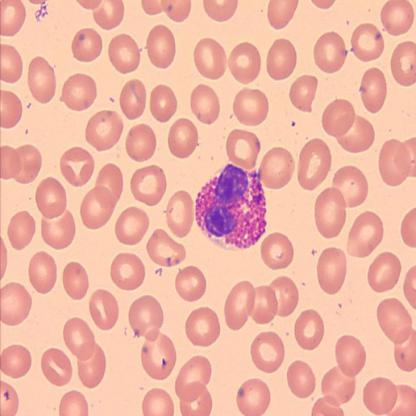Eosinophil: (194, 162, 267, 247)
